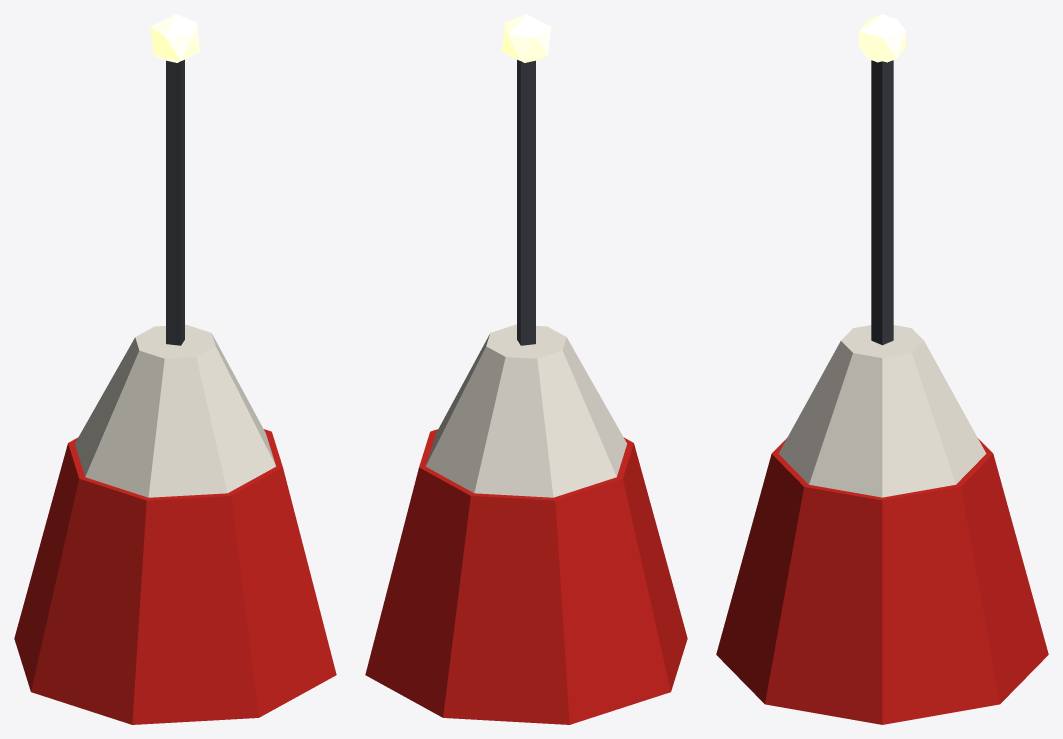
Rendered from buoy.glb.
3 renders of one model, left to right at view 1: azimuth 30°, elevation 25°; view 2: azimuth 150°, elevation 25°; view 3: azimuth 270°, elevation 25°, orthographic.
Parts seen in each view (by area): view 1: buoy; view 2: buoy; view 3: buoy.
Boxes of the visible parts, box(x1,y1,x2,y2) form: buoy: box(14, 14, 336, 724); buoy: box(365, 14, 687, 724); buoy: box(716, 14, 1048, 724).
Bounding box in the file's own units: 1.2 × 2.55 × 1.2.
